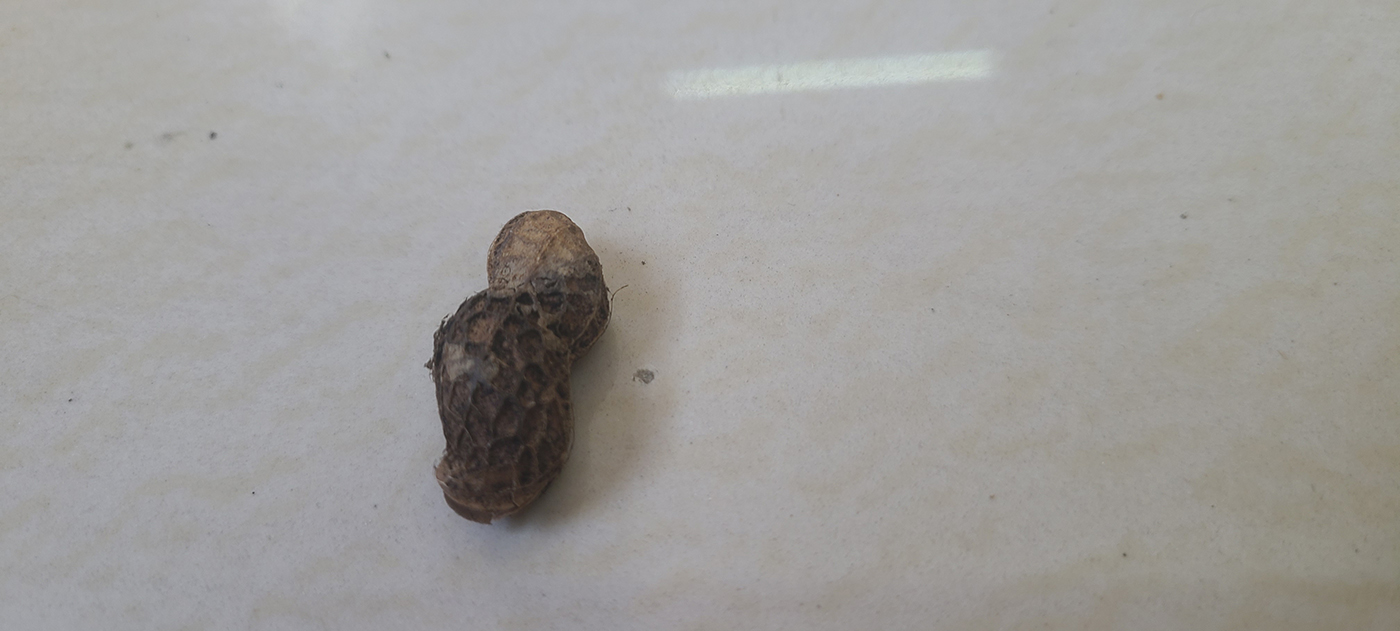l: (426, 206, 618, 525)
